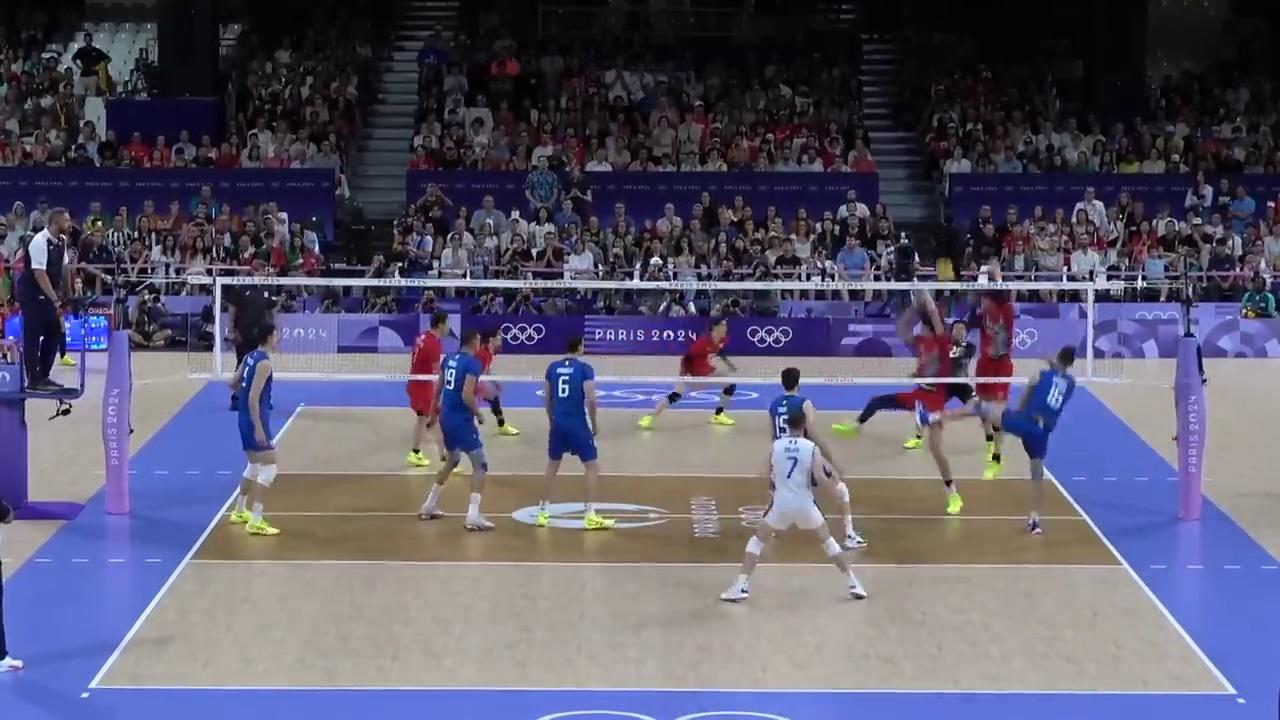ball: (935, 259, 957, 283)
